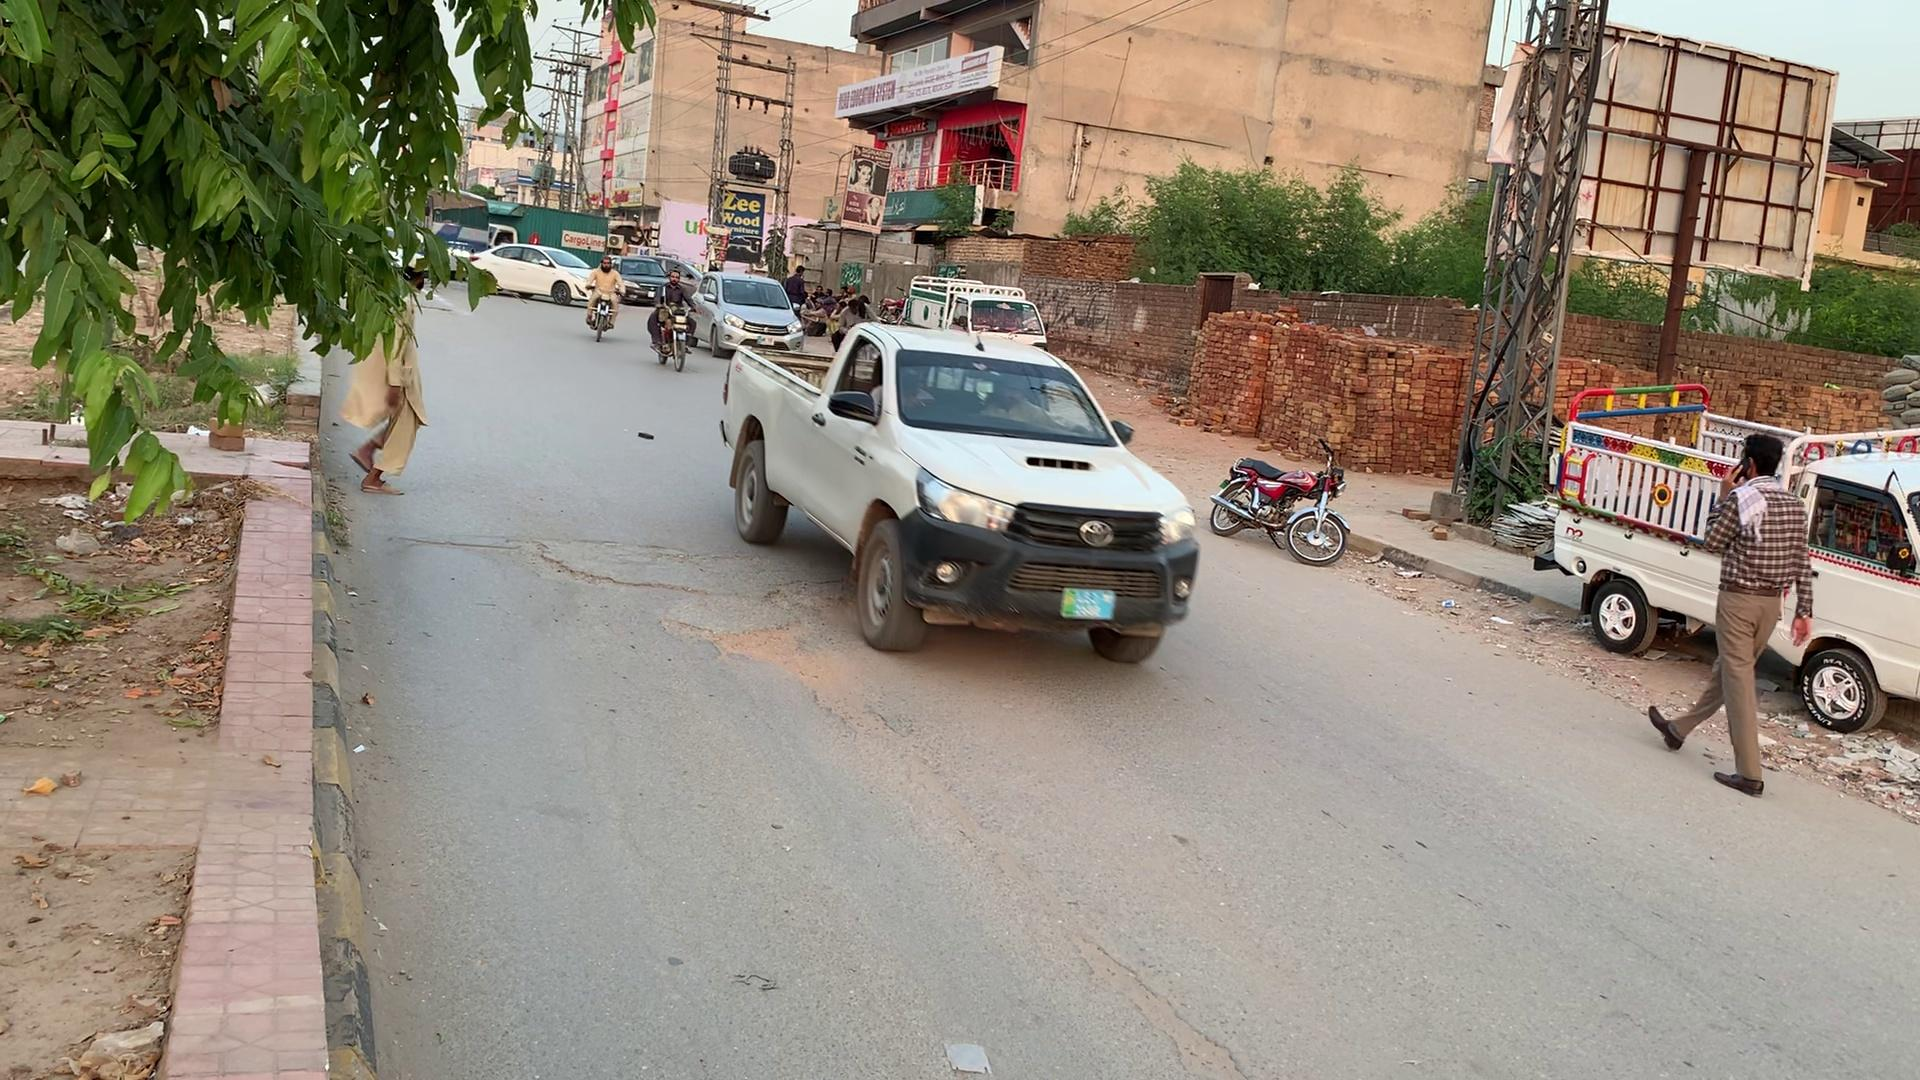windshield: (881, 343, 1130, 434)
